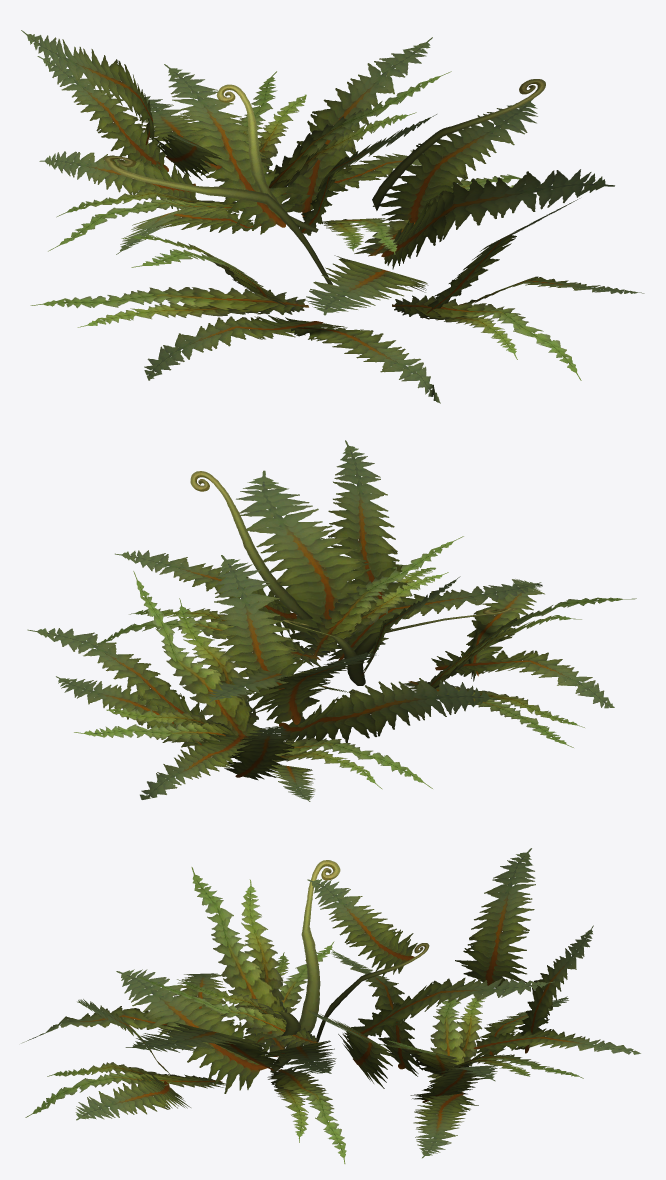
File: fern_001.fbx
3 renders of one model, top to bottom at view 1: azimuth 30°, elevation 25°; view 2: azimuth 150°, elevation 25°; view 3: azimuth 270°, elevation 25°, orthographic. The views are drawn at different scales.
Visible parts, largest first — view 1: fern_001; view 2: fern_001; view 3: fern_001.
Boxes of the visible parts, x1,y1,x2,y2 form: fern_001: (21, 30, 644, 403); fern_001: (27, 440, 636, 801); fern_001: (21, 848, 640, 1163).
Bounding box in the file's own units: 19092 × 6931 × 23529.
